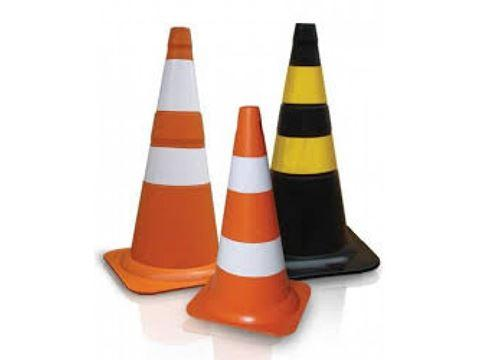traffic_cone: (102, 25, 219, 295), (185, 105, 312, 338), (269, 22, 381, 280)
